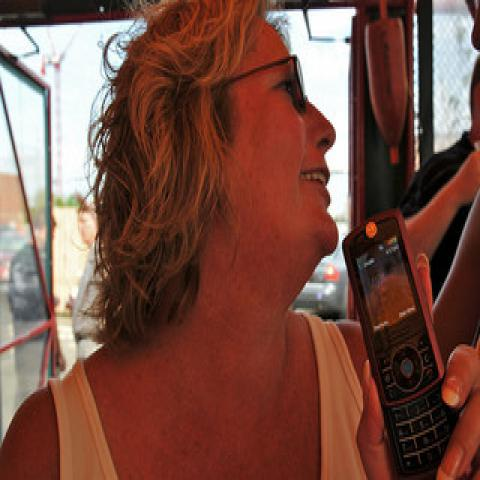car: (286, 219, 350, 323), (71, 239, 102, 360), (6, 245, 46, 321), (0, 227, 28, 282)
